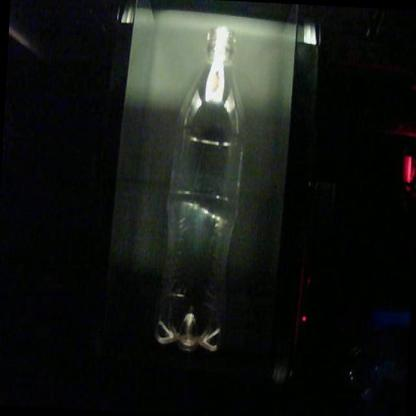Plastic Bottle: (157, 26, 243, 352)
